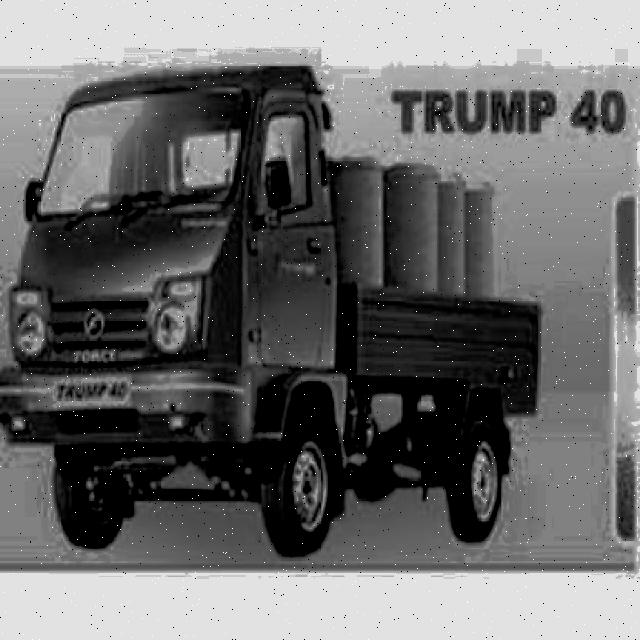LCV: (31, 69, 522, 491)
